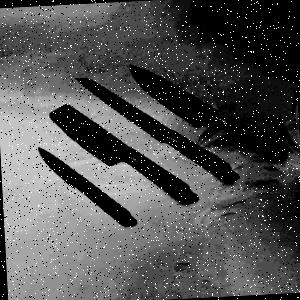knife: (71, 74, 244, 187), (40, 100, 201, 209), (123, 59, 285, 164), (35, 138, 141, 231)
